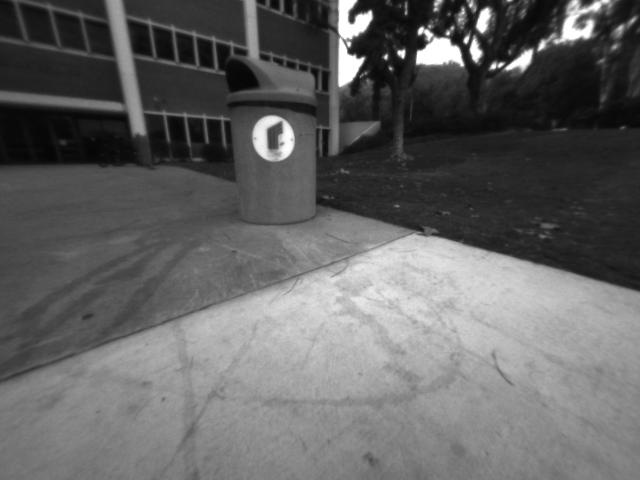trashcan: (220, 52, 320, 227)
